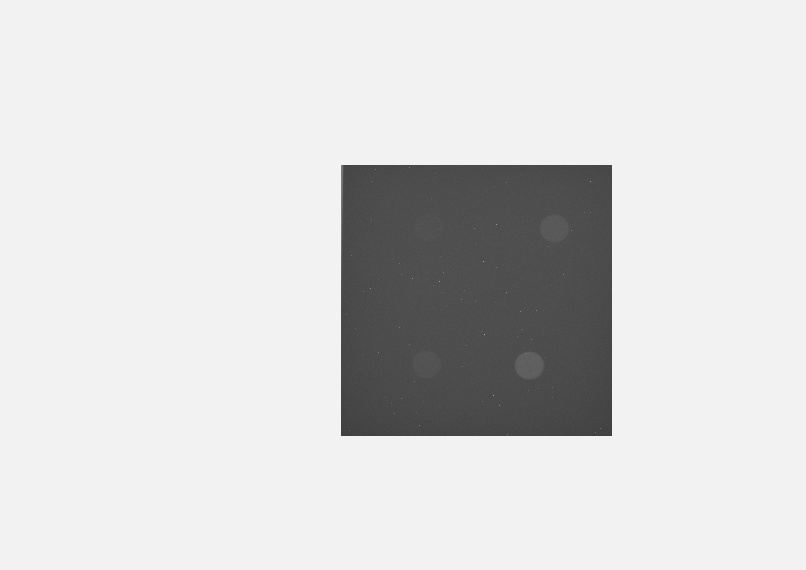bubble: (539, 214, 569, 243), (514, 351, 544, 379), (413, 213, 442, 241), (411, 352, 441, 378)
